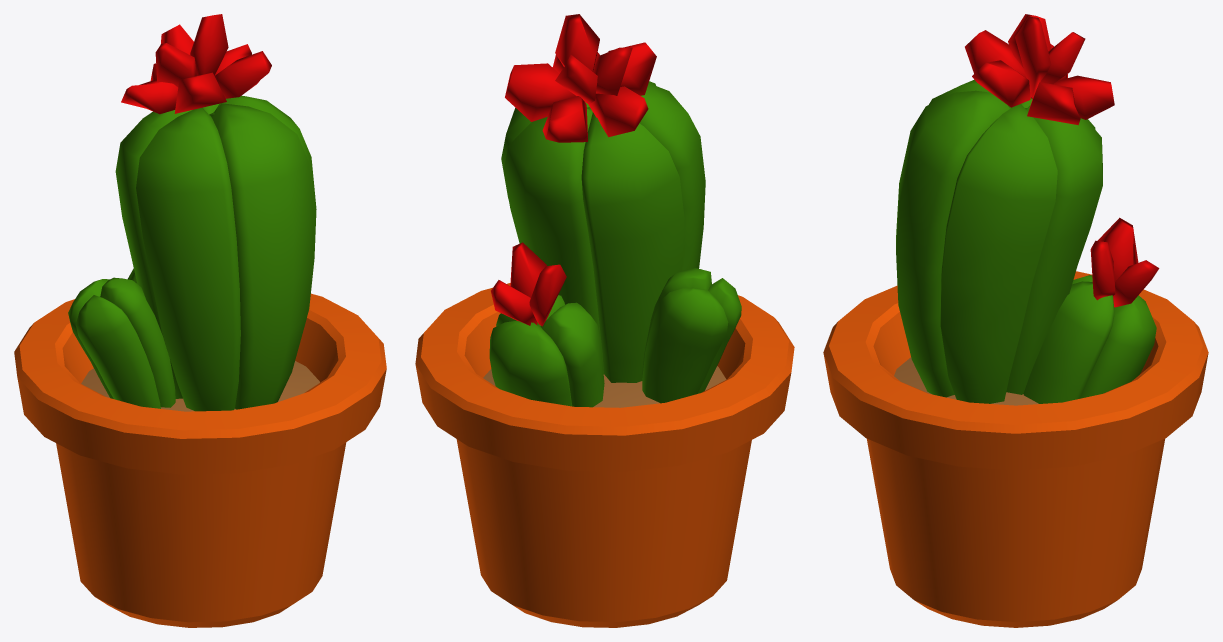
The model's file is Cactus.fbx.
3 renders of one model, left to right at view 1: azimuth 30°, elevation 25°; view 2: azimuth 150°, elevation 25°; view 3: azimuth 270°, elevation 25°, orthographic. The views are drawn at different scales.
Parts seen in each view (by area): view 1: Cactus; view 2: Cactus; view 3: Cactus.
Part boxes in pixels (x1=…): Cactus: x1=14, y1=14, x2=386, y2=627; Cactus: x1=415, y1=14, x2=794, y2=627; Cactus: x1=823, y1=14, x2=1208, y2=627.
Bounding box in the file's own units: 73.91 × 122 × 73.91.
